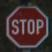Stop sign: (0, 0, 51, 51)
